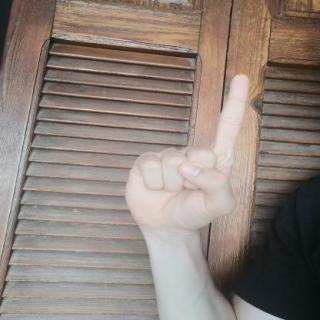BAA: (114, 64, 274, 240)
